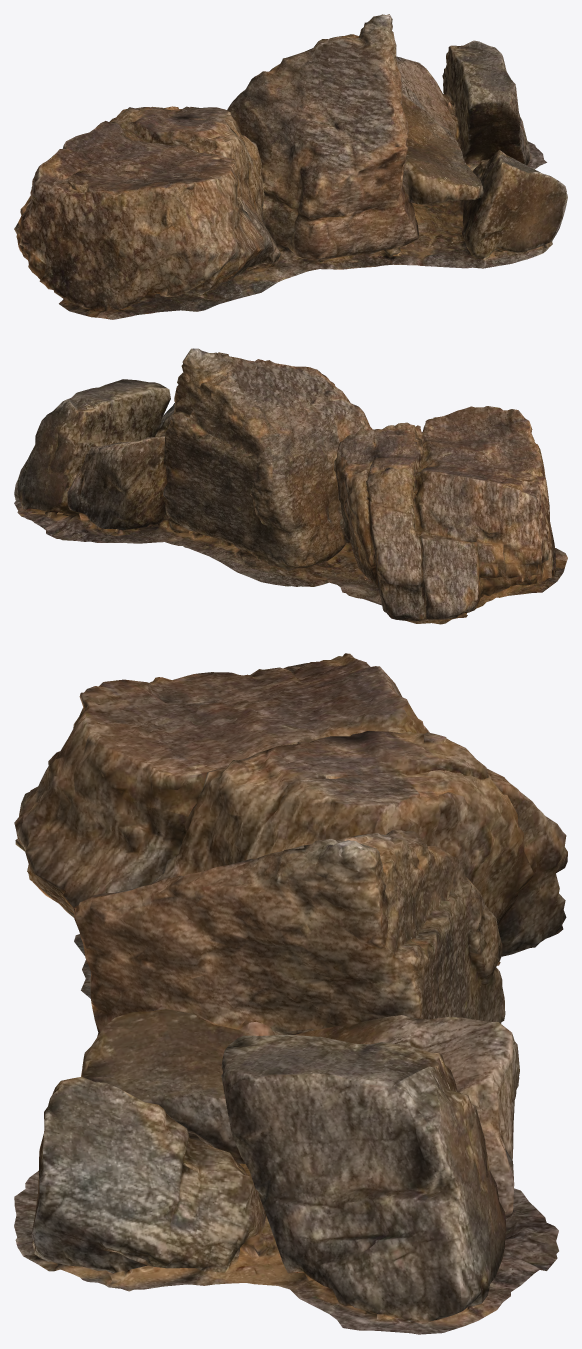
Rendered from namaqualand_boulder_02.glb.
3 views of the same model, one above another, from view 1: azimuth 30°, elevation 25°; view 2: azimuth 150°, elevation 25°; view 3: azimuth 270°, elevation 25° (orthographic). The views are drawn at different scales.
Parts seen in each view (by area): view 1: boulder_02; view 2: boulder_02; view 3: boulder_02.
Part boxes in pixels (left/top/right/bottom): boulder_02: left=14, top=14, right=567, bottom=319; boulder_02: left=14, top=348, right=567, bottom=624; boulder_02: left=14, top=653, right=567, bottom=1334.
Bounding box in the file's own units: 2.53 × 0.8826 × 1.23.
Materials: 1 (1 with a texture image).
